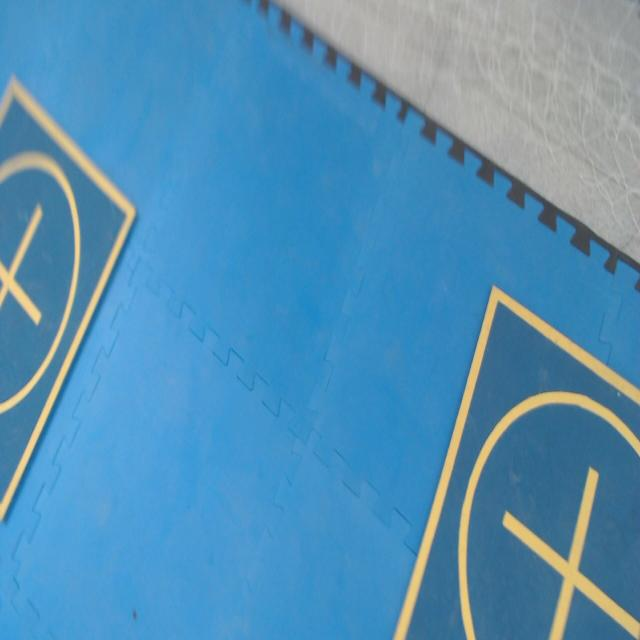base_pouso: (391, 286, 640, 638), (0, 71, 137, 524)
